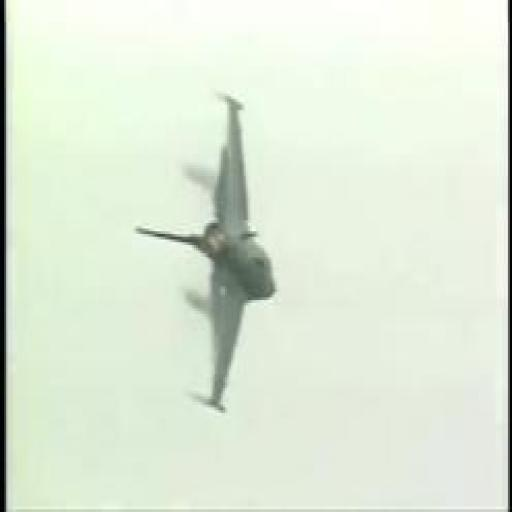aircraft: (137, 87, 278, 416)
